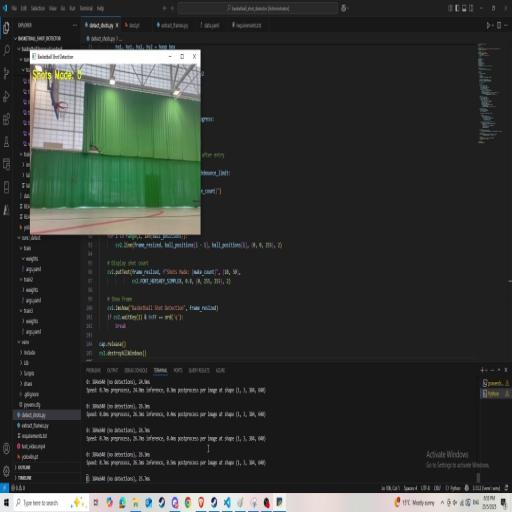hoops: (57, 98, 70, 123)
